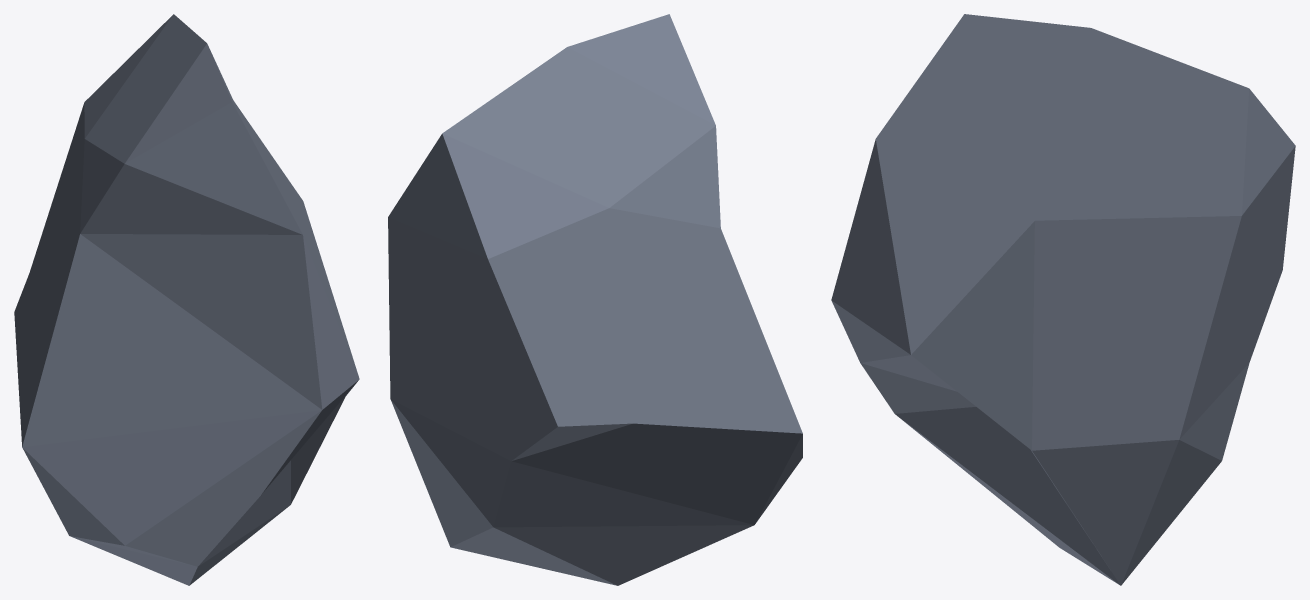
File: Rock_2_Mesh.fbx
3 renders of one model, left to right at view 1: azimuth 30°, elevation 25°; view 2: azimuth 150°, elevation 25°; view 3: azimuth 270°, elevation 25°, orthographic. The views are drawn at different scales.
Parts seen in each view (by area): view 1: Rock_2_Mesh; view 2: Rock_2_Mesh; view 3: Rock_2_Mesh.
Boxes of the visible parts, x1,y1,x2,y2 form: Rock_2_Mesh: (14,14,359,585); Rock_2_Mesh: (388,14,802,585); Rock_2_Mesh: (831,14,1295,585).
Bounding box in the file's own units: 268 × 401 × 315.
